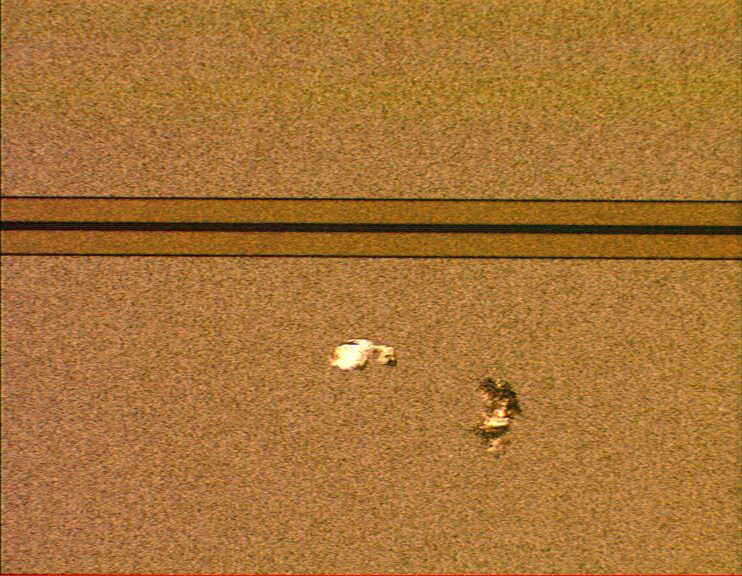SCRATCH: (323, 332, 526, 459)
